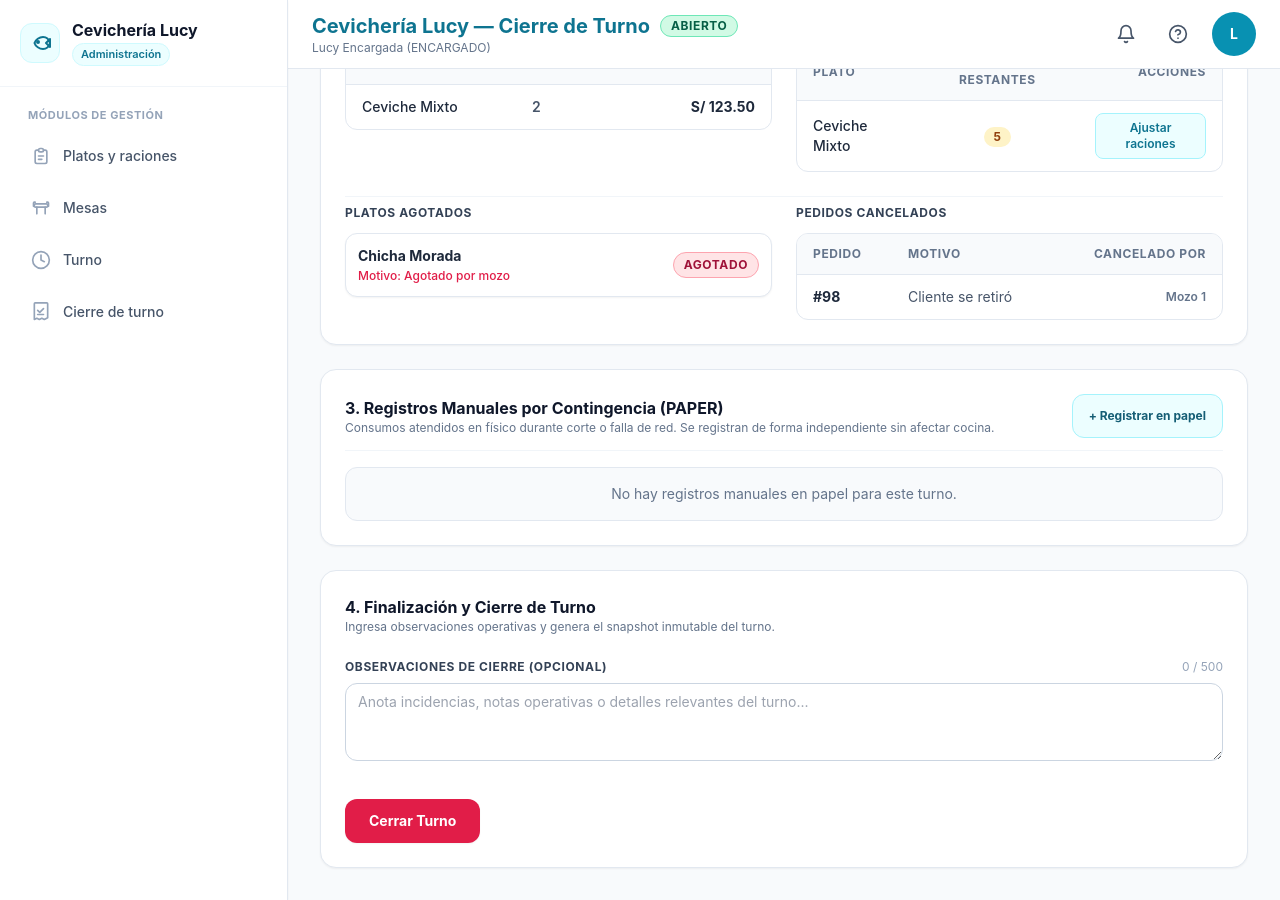
Scenario: Shift Close Flow (Spec 006 Frontend) › cierre exitoso muestra snapshot: cierra turno sin pendientes y activa badge CERRADO
(page scrolled)
expect the button "Cerrar Turno" is enabled: met, box left=345, top=799, right=480, bottom=843
Note: Escribir observación opcional
Replace the text in the text box labelled "Observaciones de Cierre (Opcional)" with "Turno sin inconvenientes operativos": coordinates (784, 722) left=345, top=683, right=1223, bottom=761
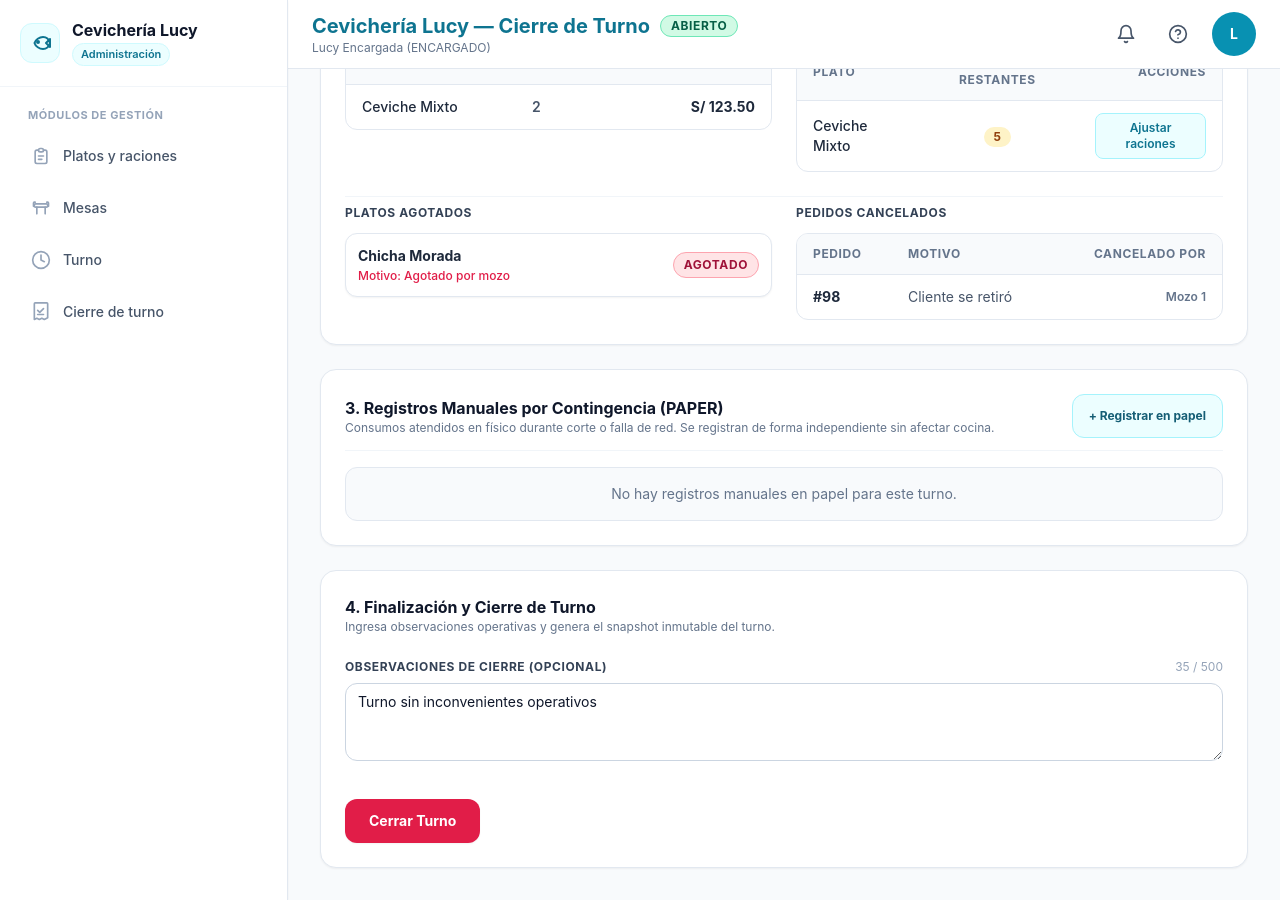
Note: Abrir modal de confirmación
Click the button "Cerrar Turno": coordinates (413, 821) left=345, top=799, right=480, bottom=843
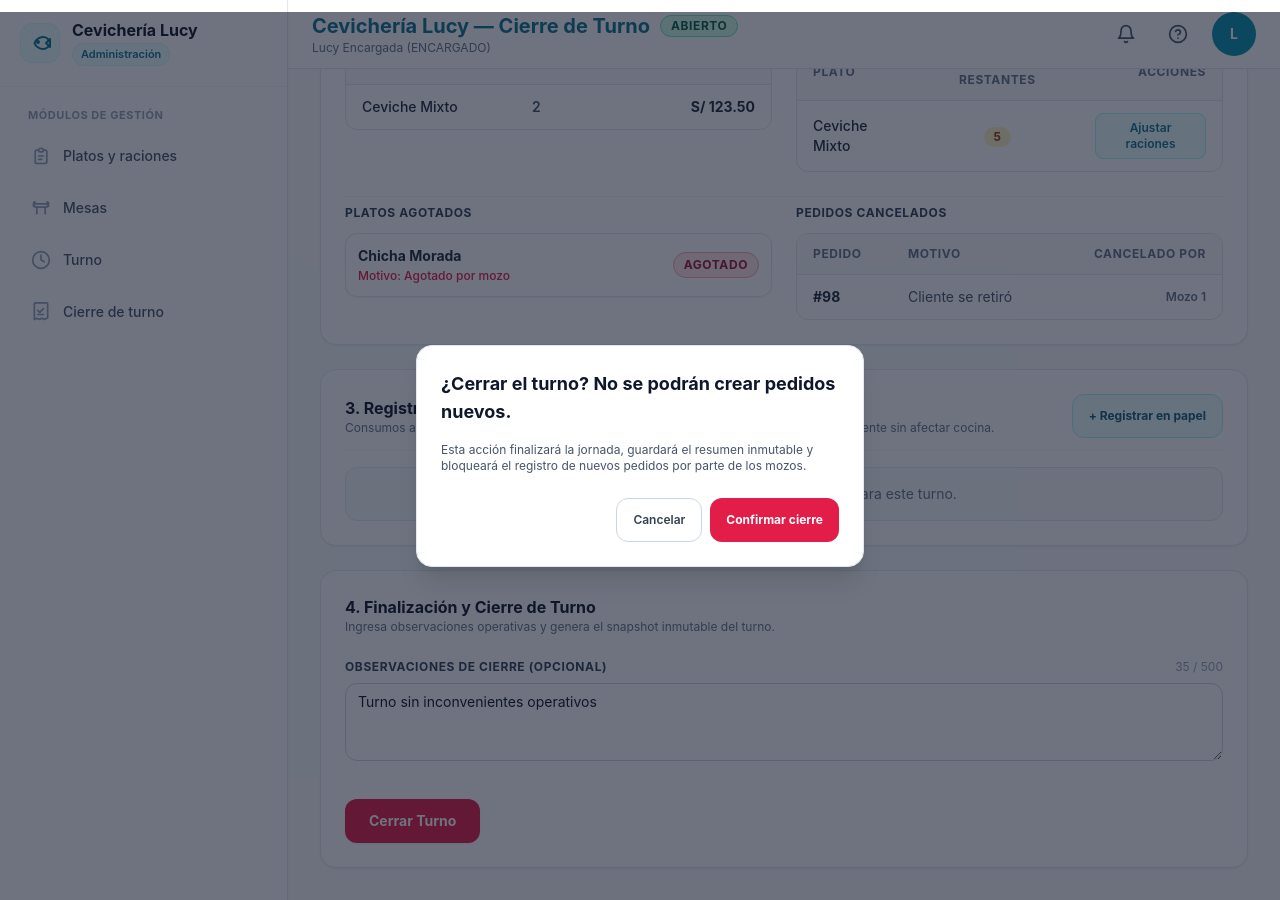
expect the heading "¿Cerrar el turno? No se podrán crear pedidos nuevos." is shown: met, box left=441, top=370, right=839, bottom=426
Click the button "Confirmar cierre": coordinates (775, 520) left=710, top=498, right=839, bottom=542
(page scrolled)
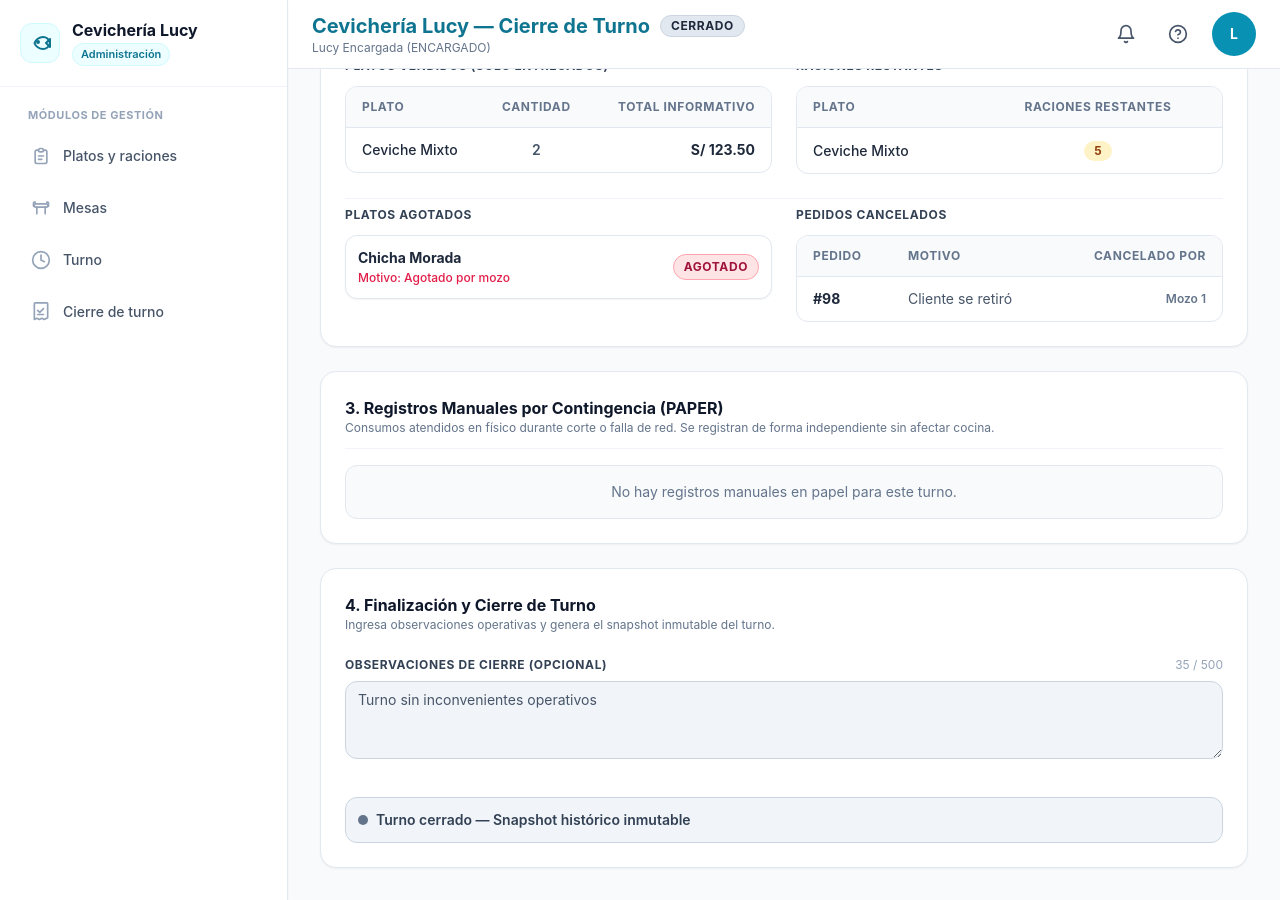
expect the text "CERRADO" is shown: met, box left=660, top=15, right=745, bottom=37
expect the text "Turno cerrado — Snapshot histórico inmutable" is shown: met, box left=345, top=797, right=1223, bottom=843
